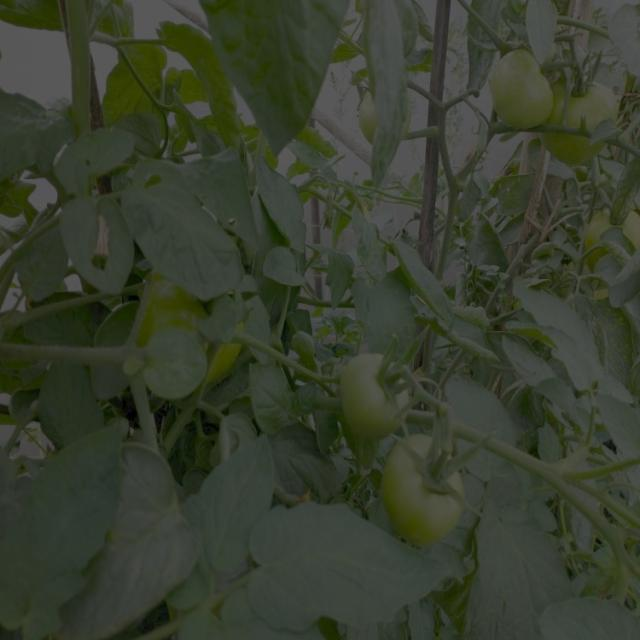tomato: (378, 435, 469, 551), (344, 354, 410, 439), (488, 49, 559, 126), (134, 275, 201, 332), (551, 77, 613, 124), (356, 89, 383, 136)
